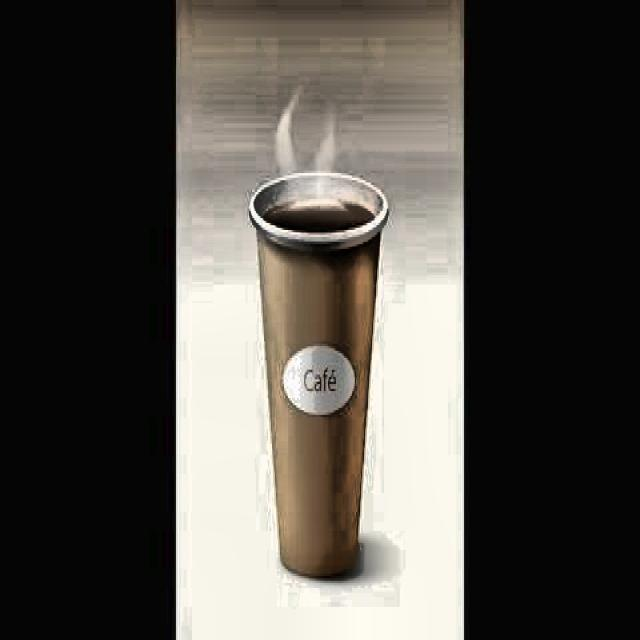Cup: (247, 161, 390, 581)
